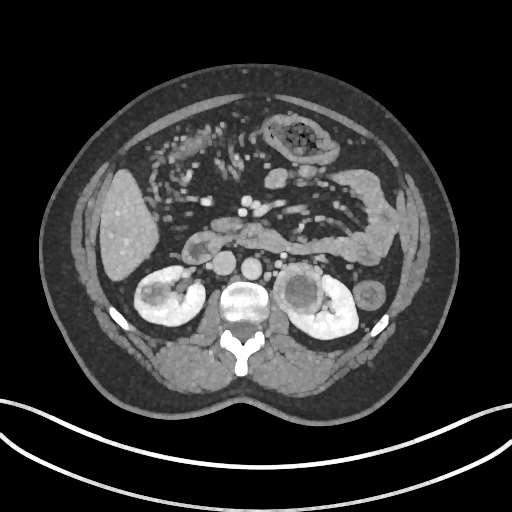Lesion: (271, 258, 329, 319)
